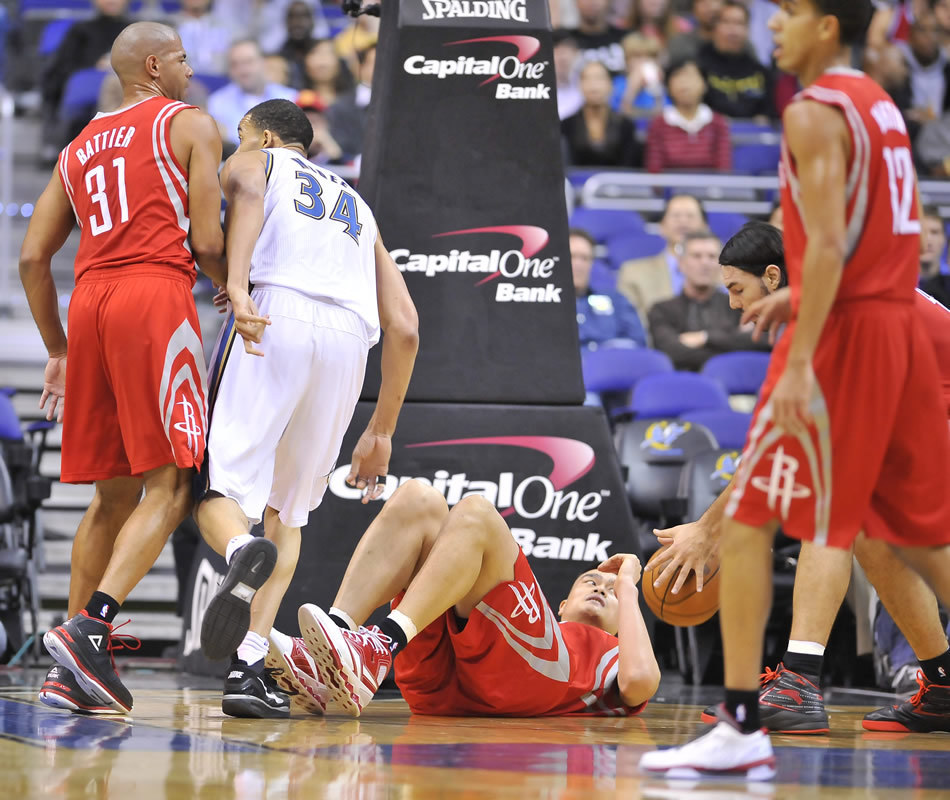10+: (4, 1, 950, 768)
down: (273, 463, 695, 715)
